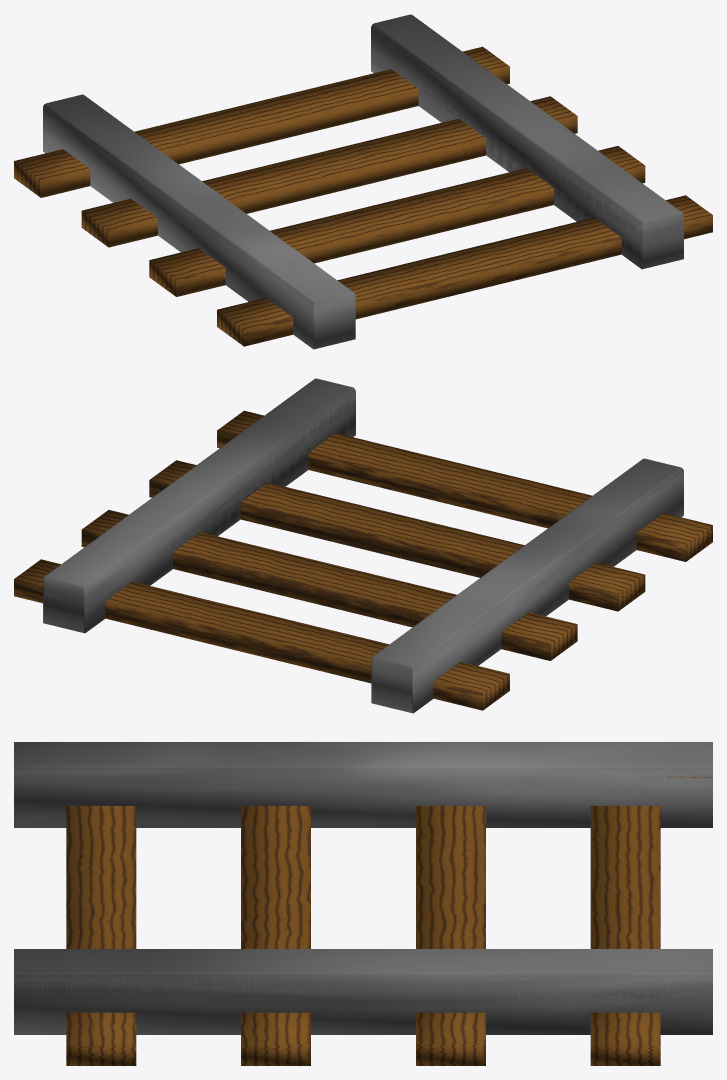
Rendered from BaseRail.fbx.
The picture shows the model from 3 angles, top to bottom: view 1: azimuth 30°, elevation 25°; view 2: azimuth 150°, elevation 25°; view 3: azimuth 270°, elevation 25°; orthographic projection. The views are drawn at different scales.
Parts seen in each view (by area): view 1: BaseRail; view 2: BaseRail; view 3: BaseRail.
Part boxes in pixels (x1,y1,x2,y2): BaseRail: [14, 14, 712, 349]; BaseRail: [14, 378, 712, 713]; BaseRail: [14, 742, 712, 1065].
Size of the model in its own units: 200 by 19.26 by 200.
